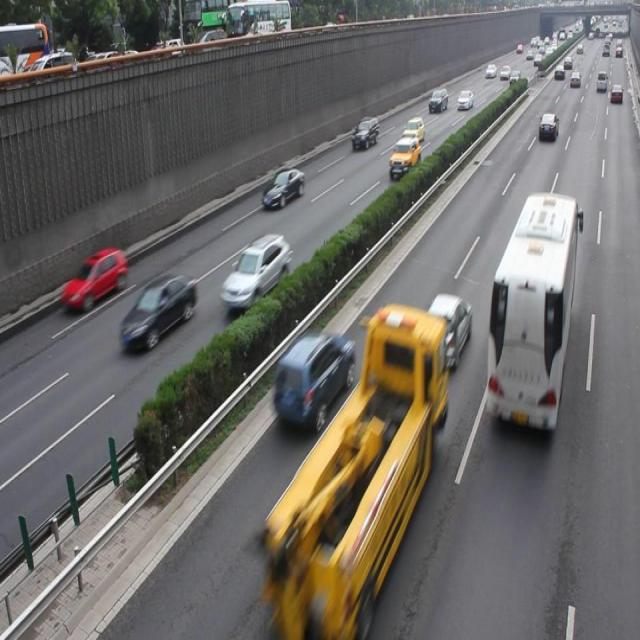bus: (261, 302, 447, 640)
car: (274, 330, 355, 429), (121, 272, 197, 350), (220, 230, 291, 305), (61, 246, 128, 310), (418, 290, 471, 367), (261, 167, 304, 209), (387, 136, 421, 180)
van: (486, 194, 576, 427)
